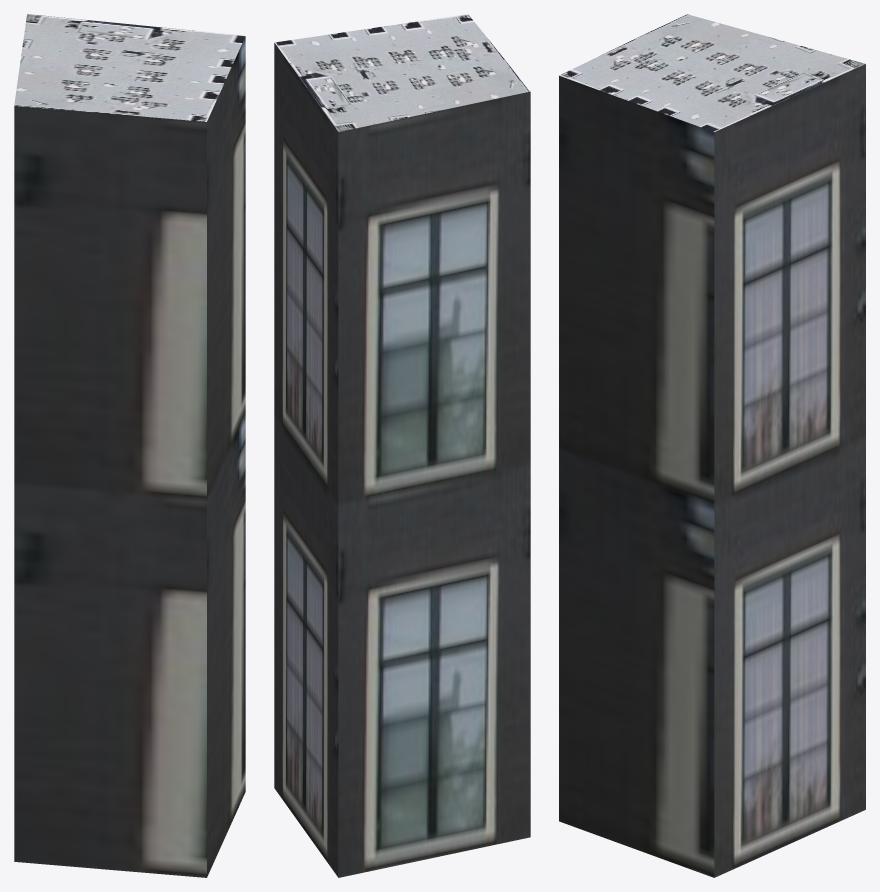
The model's file is ResTex__3727.fbx.
The picture shows the model from 3 angles, left to right: view 1: azimuth 30°, elevation 25°; view 2: azimuth 150°, elevation 25°; view 3: azimuth 270°, elevation 25°; orthographic projection.
Visible parts, largest first — view 1: CityEngineMaterial_22_m, CityEngineMaterial_8_m; view 2: CityEngineMaterial_22_m, CityEngineMaterial_8_m; view 3: CityEngineMaterial_22_m, CityEngineMaterial_8_m.
Part boxes in pixels (left/top/right/bottom): CityEngineMaterial_22_m: left=14, top=36, right=245, bottom=877; CityEngineMaterial_8_m: left=14, top=14, right=245, bottom=121; CityEngineMaterial_22_m: left=274, top=43, right=530, bottom=877; CityEngineMaterial_8_m: left=274, top=14, right=530, bottom=131; CityEngineMaterial_22_m: left=559, top=64, right=865, bottom=877; CityEngineMaterial_8_m: left=559, top=14, right=865, bottom=131.
Size of the model in its own units: 2.04 by 6 by 2.24.
Materials: 2 (2 with a texture image).
